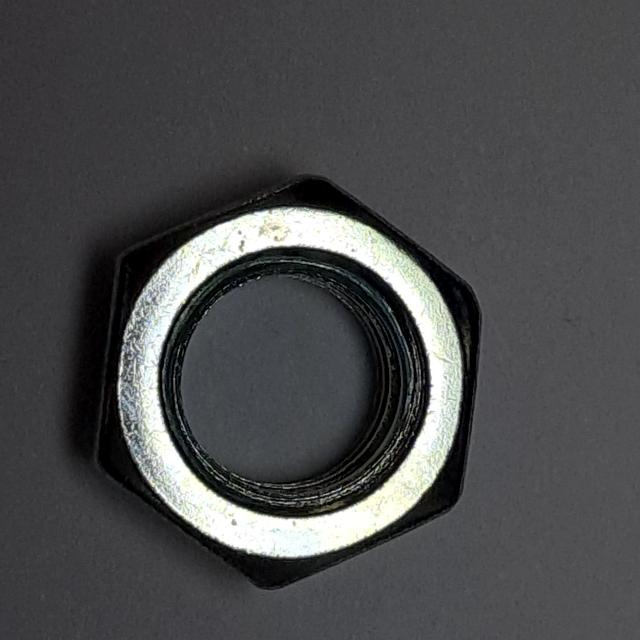Excellent: (85, 164, 491, 600)
